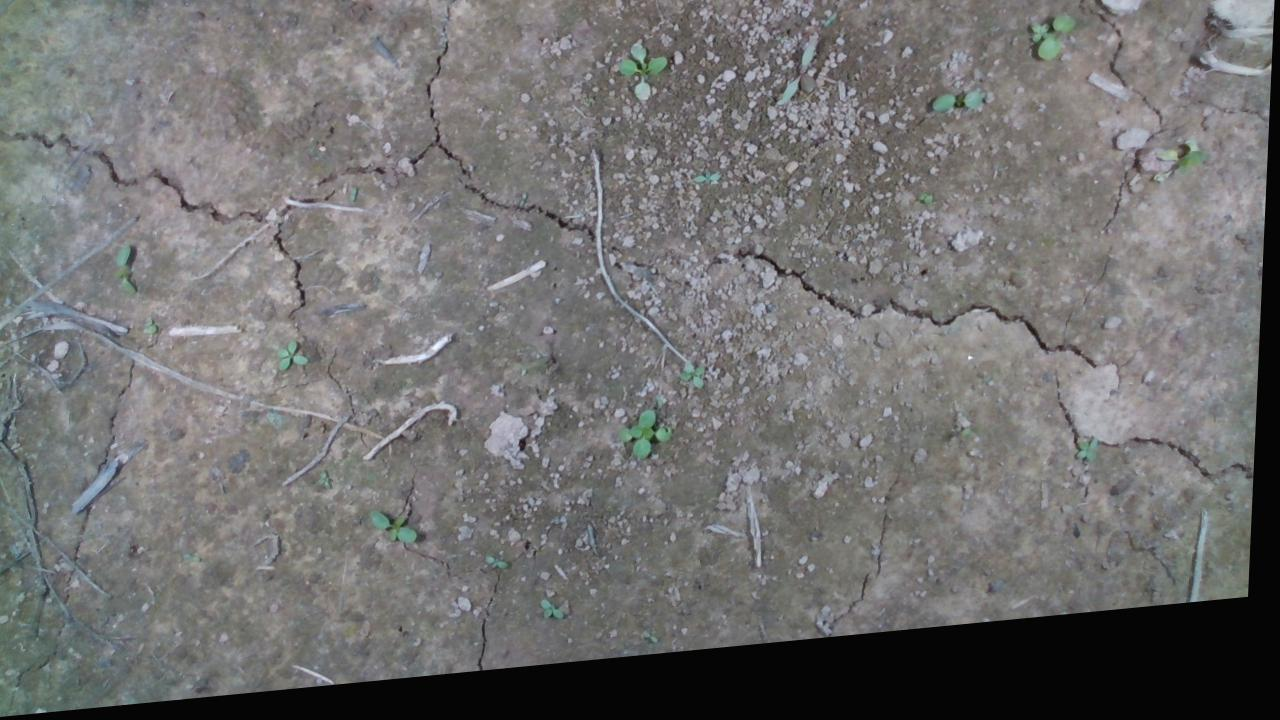weed: (616, 49, 681, 97), (367, 511, 426, 559), (623, 419, 669, 472), (1025, 32, 1065, 85), (932, 100, 991, 134), (536, 604, 577, 636), (275, 344, 311, 378), (679, 374, 705, 402)
